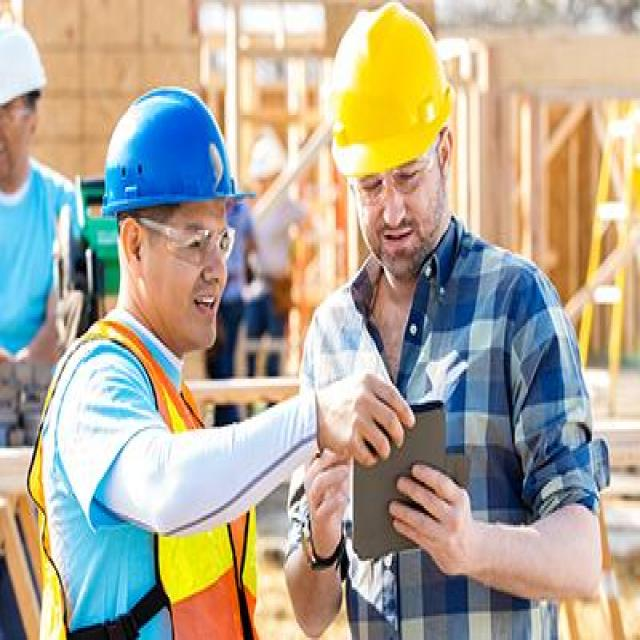Reflective-Jacket: (31, 319, 250, 633)
Safety-Helmet: (96, 79, 258, 225), (323, 5, 458, 177), (0, 17, 51, 117)
